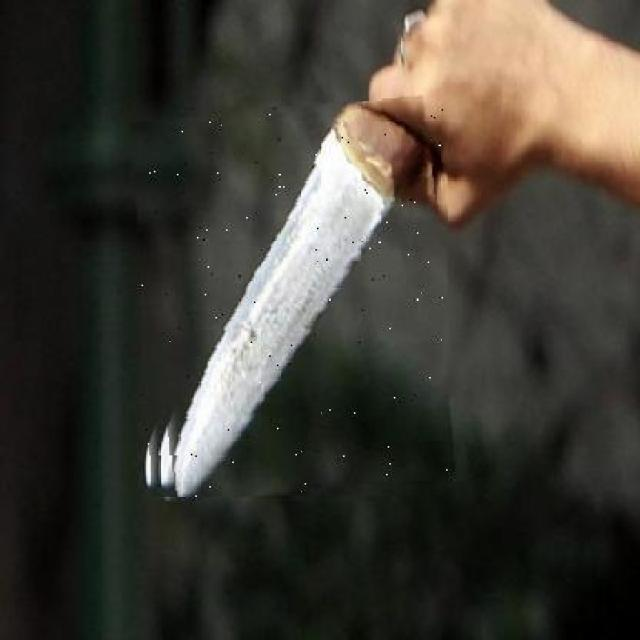knife: (137, 101, 448, 497)
